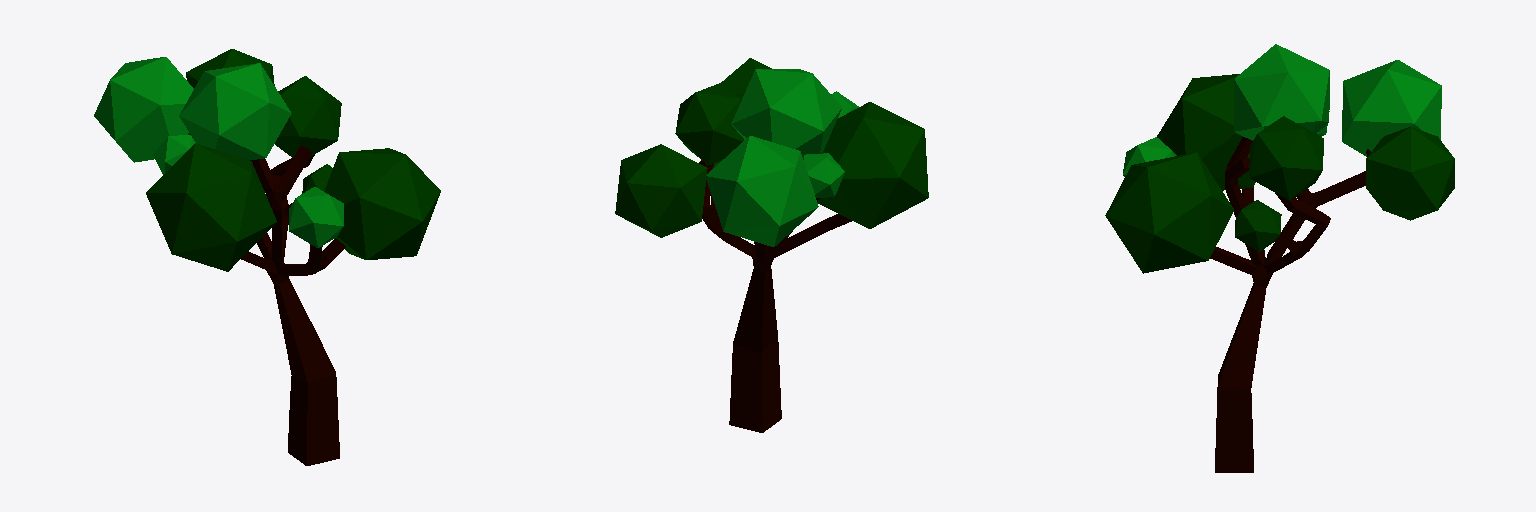
Rendered from tree.obj.
3 renders of one model, left to right at view 1: azimuth 30°, elevation 25°; view 2: azimuth 150°, elevation 25°; view 3: azimuth 270°, elevation 25°, orthographic.
Visible parts, largest first — view 1: leafs, trunk; view 2: leafs, trunk; view 3: leafs, trunk.
Boxes of the visible parts, x1,y1,x2,y2 form: leafs: [94, 49, 440, 271]; trunk: [190, 134, 345, 465]; leafs: [615, 58, 928, 246]; trunk: [700, 160, 851, 432]; leafs: [1105, 44, 1454, 273]; trunk: [1210, 137, 1370, 472].
Bounding box in the file's own units: 5.45 × 8.13 × 6.73.